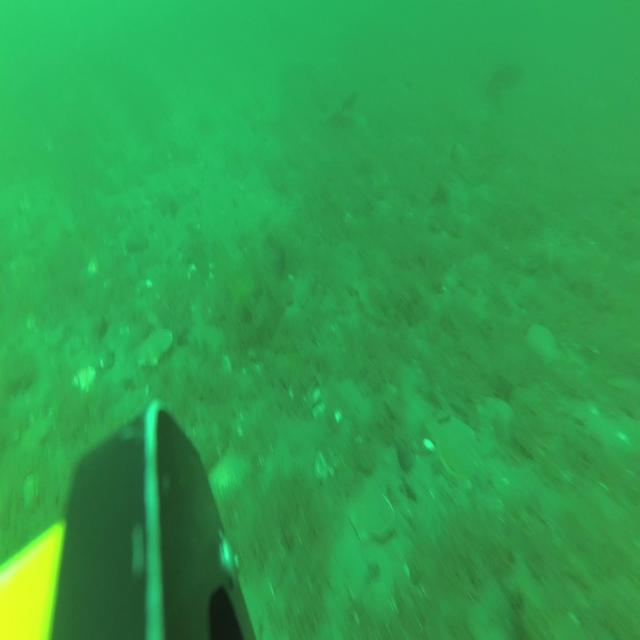scallop: (439, 415, 476, 477), (352, 490, 393, 541), (210, 457, 248, 500), (136, 328, 172, 367), (530, 323, 558, 366)
